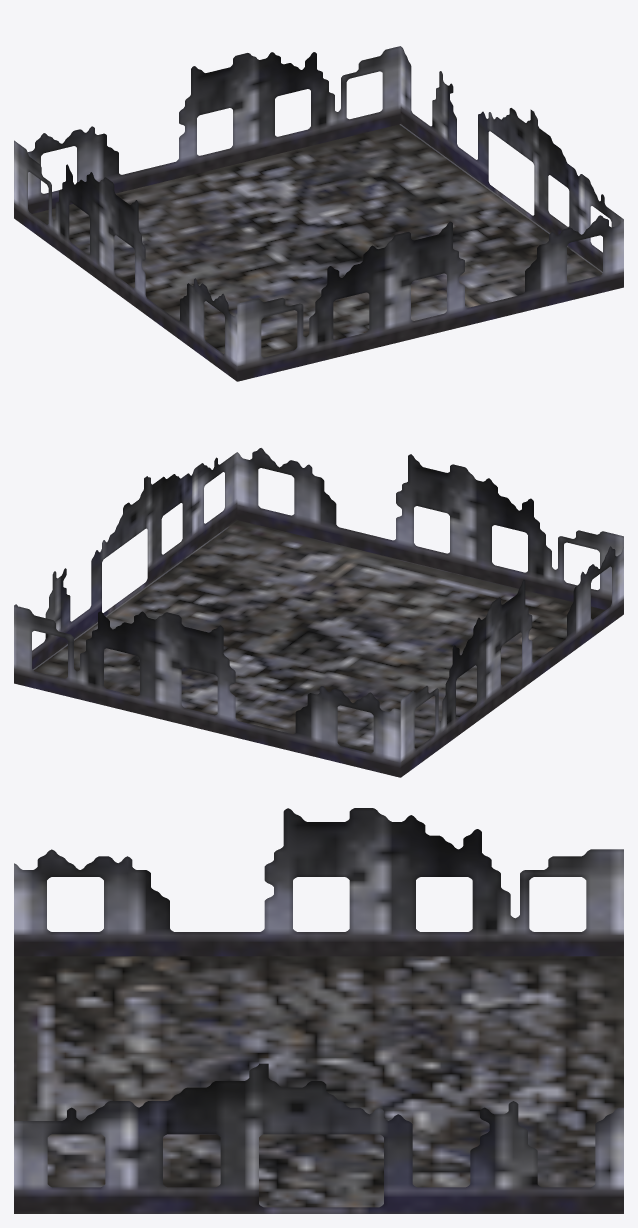
The model's file is city6storyc_dam.glb.
3 renders of one model, top to bottom at view 1: azimuth 30°, elevation 25°; view 2: azimuth 150°, elevation 25°; view 3: azimuth 270°, elevation 25°, orthographic. The views are drawn at different scales.
Visible parts, largest first — view 1: City2StoryA; view 2: City2StoryA; view 3: City2StoryA.
Part boxes in pixels (bbox=[...]): City2StoryA: bbox=[14, 46, 623, 381]; City2StoryA: bbox=[14, 448, 623, 777]; City2StoryA: bbox=[14, 808, 623, 1213].
Bounding box in the file's own units: 17.76 × 4.82 × 17.76.
1 material, 1 textured.
